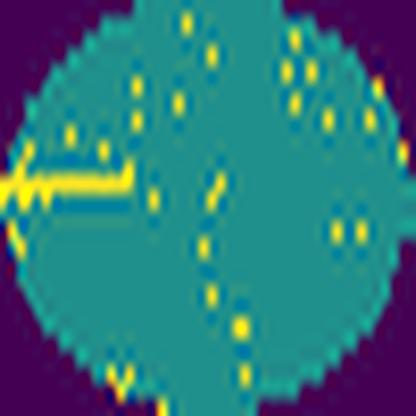Scratch: (0, 141, 154, 220)
